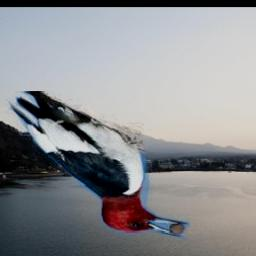Woodpecker: (7, 92, 191, 241)
